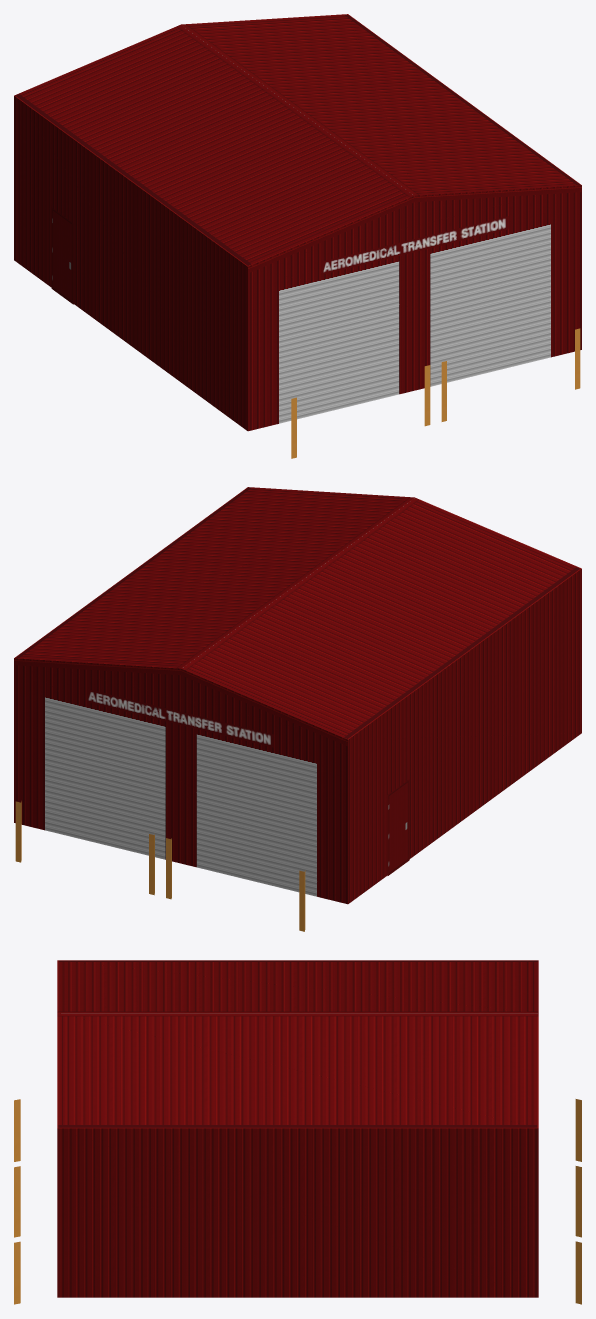
The model's file is medical-trans-station10x12-cbj_LOD01.gltf.
3 views of the same model, one above another, from view 1: azimuth 30°, elevation 25°; view 2: azimuth 150°, elevation 25°; view 3: azimuth 270°, elevation 25° (orthographic). The views are drawn at different scales.
Visible parts, largest first — view 1: Cube01; view 2: Cube01; view 3: Cube01.
Boxes of the visible parts, box(x1,y1,x2,y2) form: Cube01: box(14, 14, 581, 458); Cube01: box(14, 487, 581, 931); Cube01: box(14, 960, 581, 1304).
Bounding box in the file's own units: 9.93 × 6.02 × 14.15.
